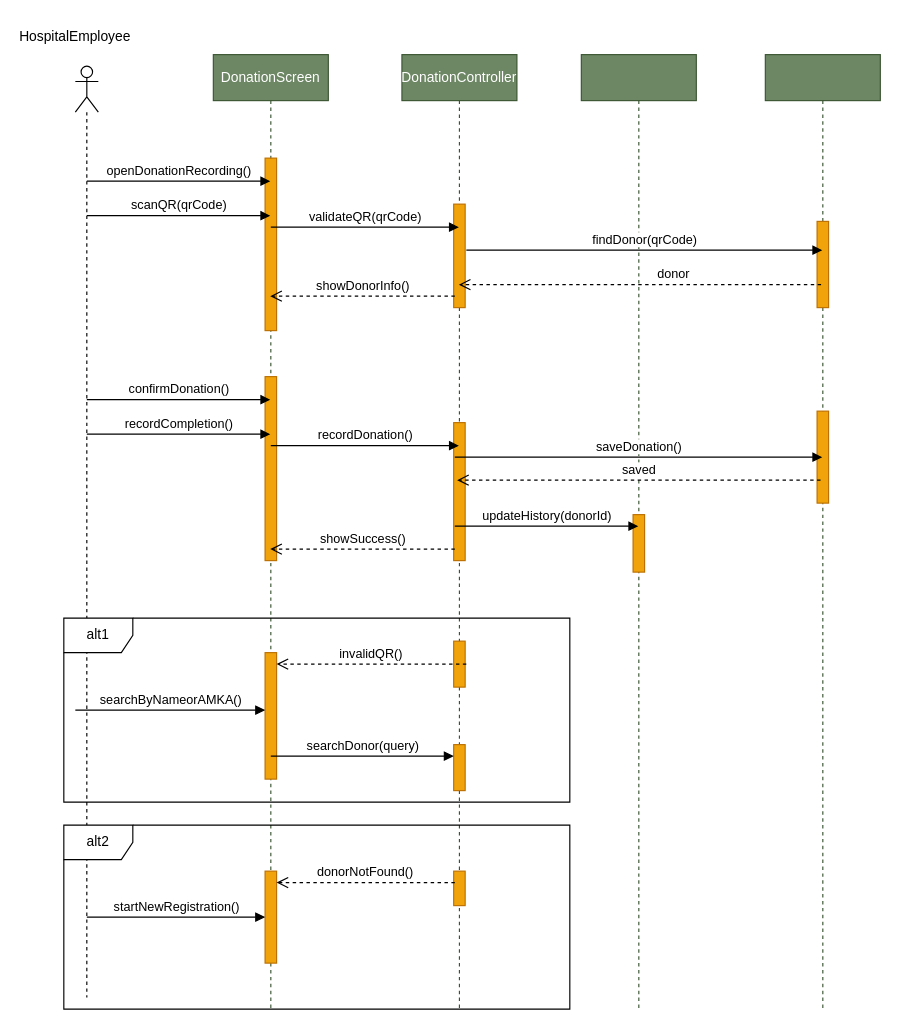
The diagram is 900 pixels wide and 1029 high, and some of its shapes have lost their labels. The centre of each missing label's shape, as x and y in pixels:
"DBManager" goes at (x=822, y=531).
"DonationHistory" goes at (x=638, y=531).
